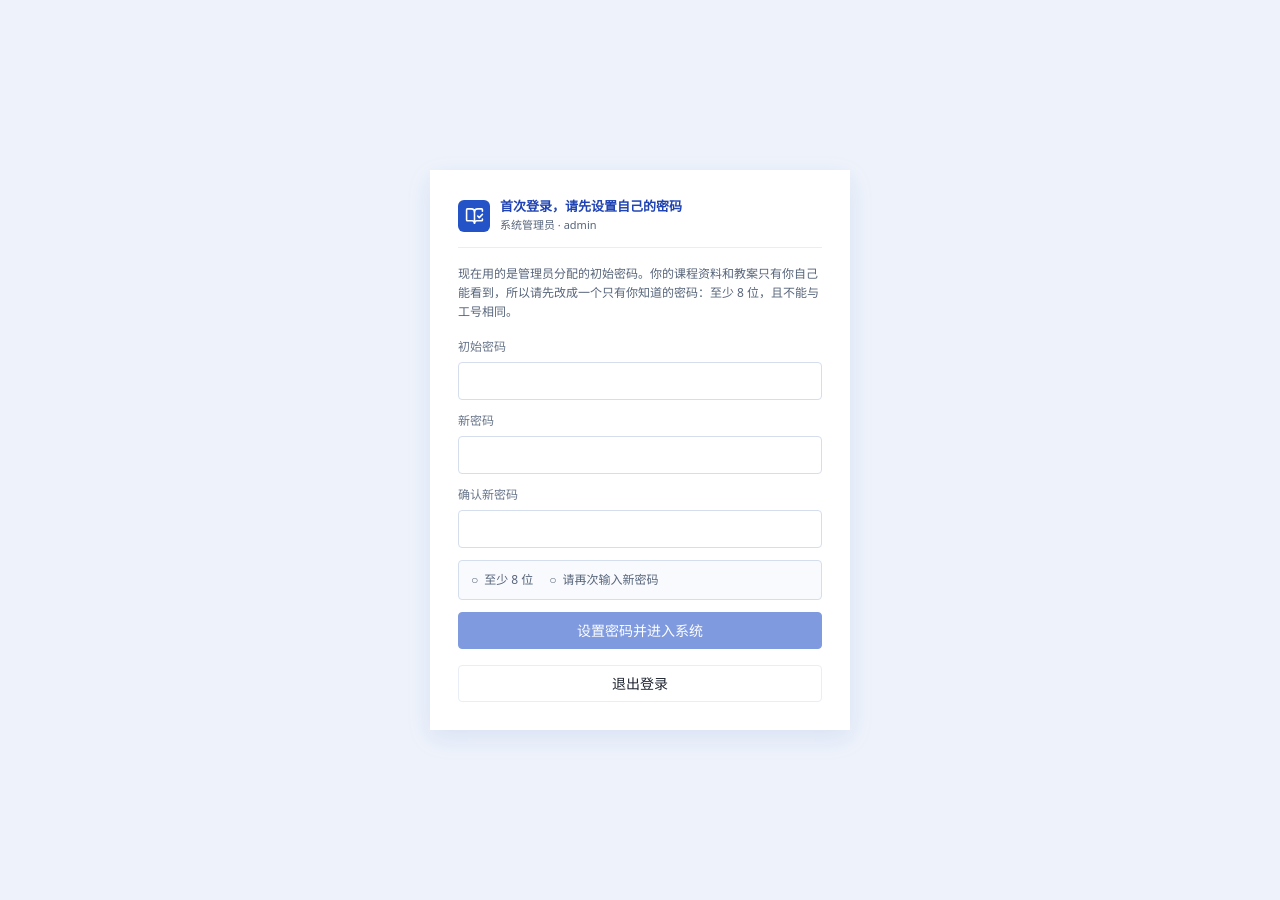
App › makes a first-time user set their own password before showing the workspace
This screenshot has width=1280, height=900.
Expected: the heading "首次登录，请先设置自己的密码" is shown, [500,198,682,215]
Expected: the button "教师工作台" is not shown
Type "admin" into the password field labelled "初始密码" at (640, 381), box [458,362,822,400]
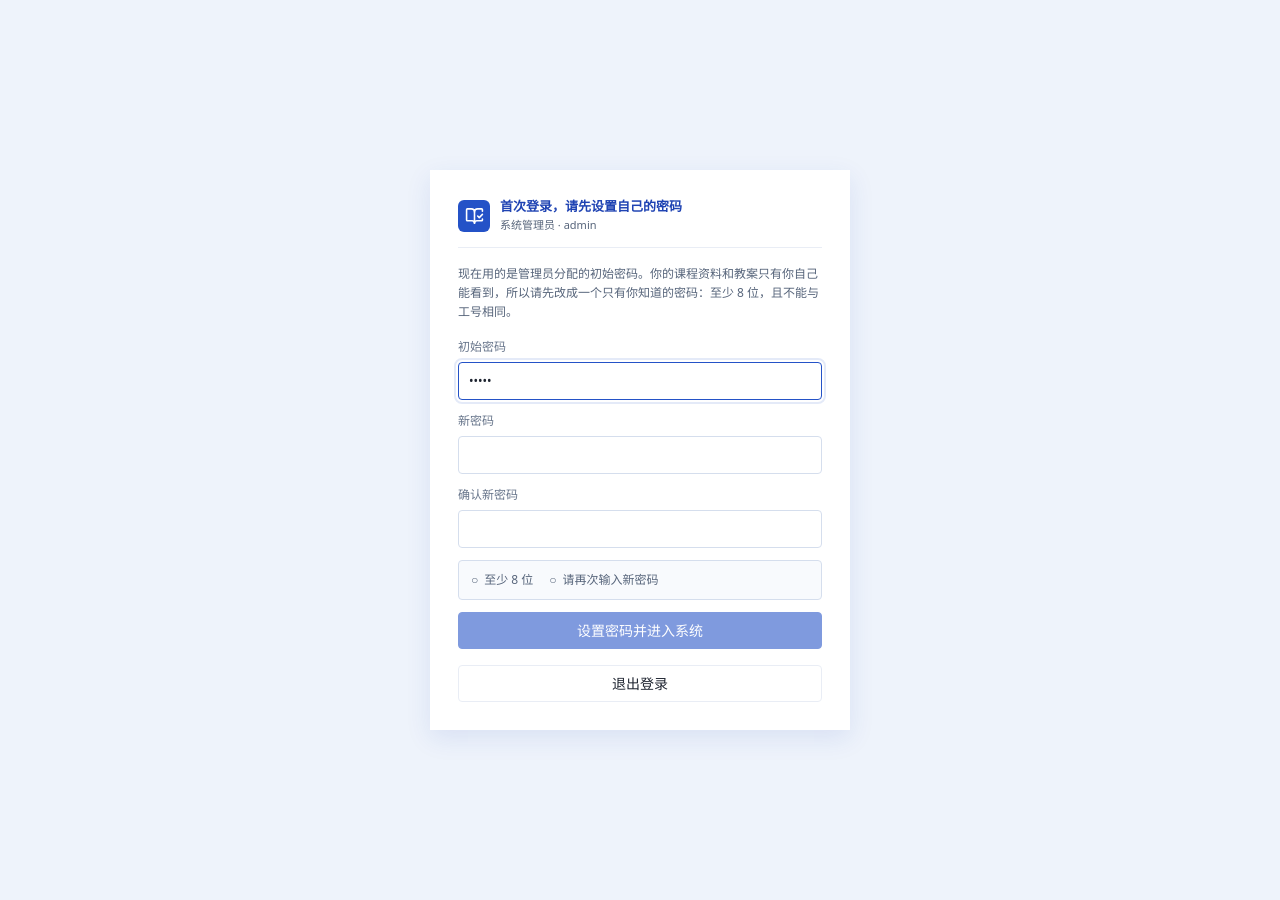
Type "Mine@2026!" into the password field labelled "新密码" at (640, 455), box [458,436,822,474]
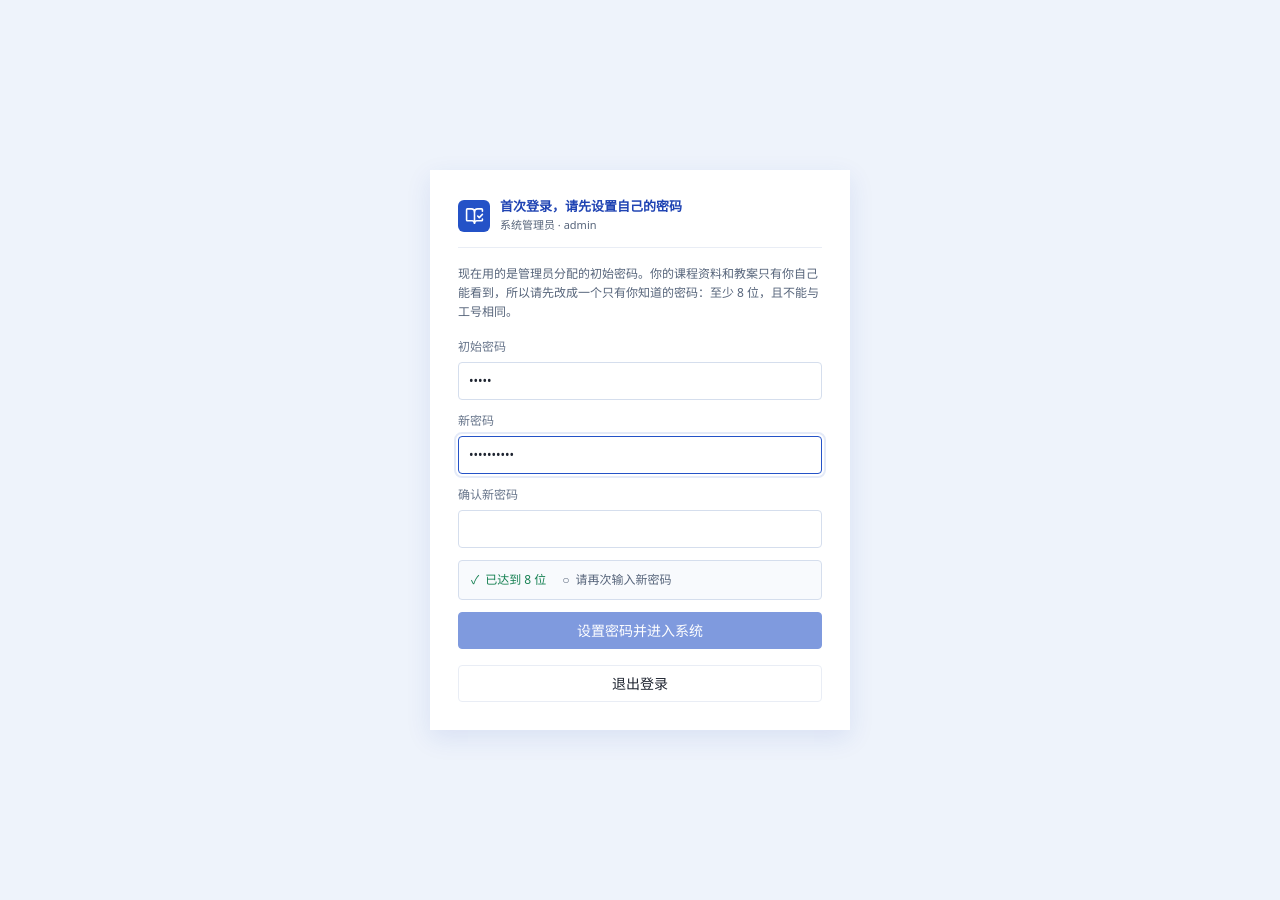
Type "Mine@2026!" into the password field labelled "确认新密码" at (640, 529), box [458,510,822,548]
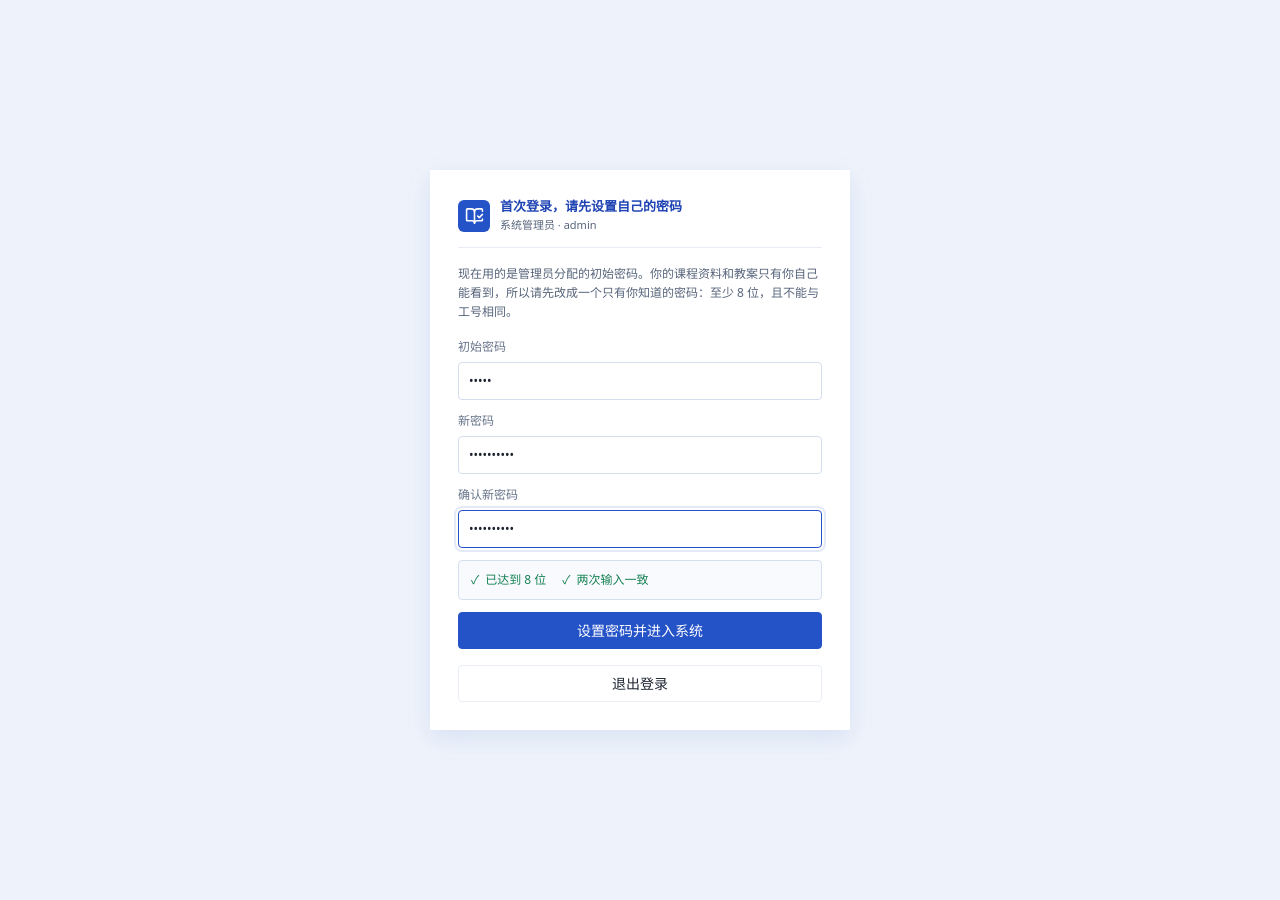
Click the button "设置密码并进入系统" at (640, 630), box [458,612,822,649]
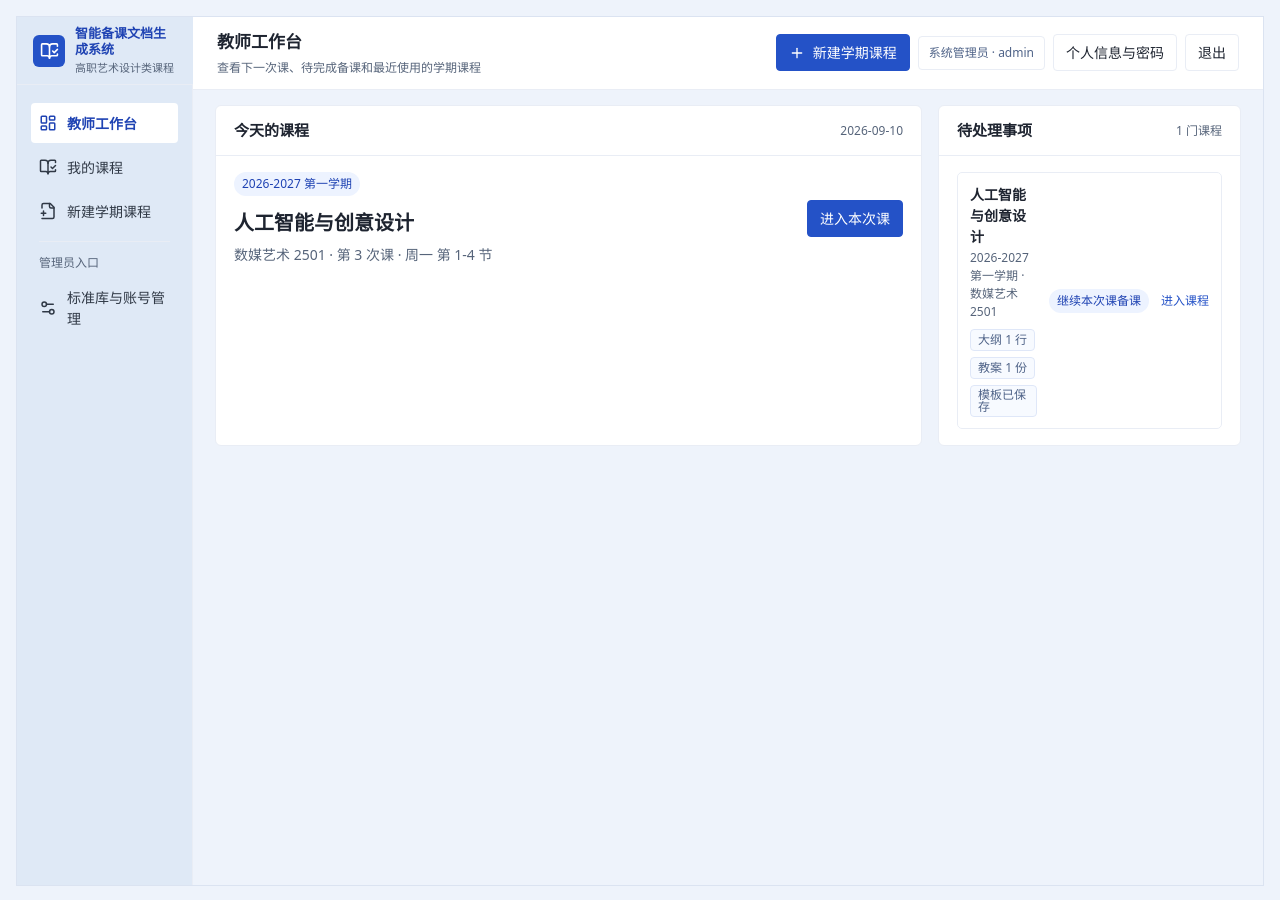
Now the button "教师工作台" is shown, box [31,103,178,143]
